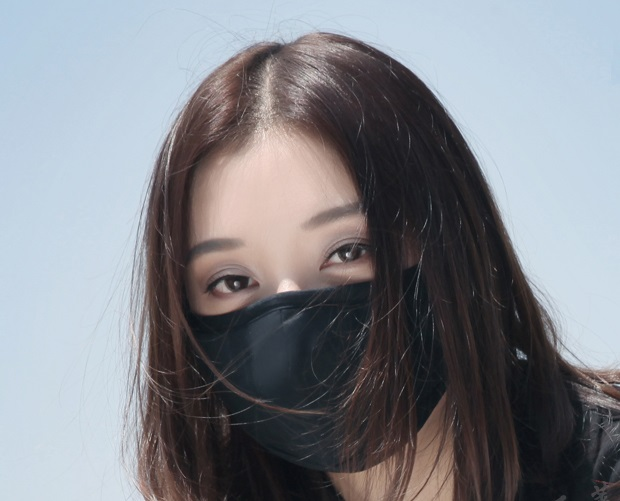face_mask: (176, 149, 432, 437)
